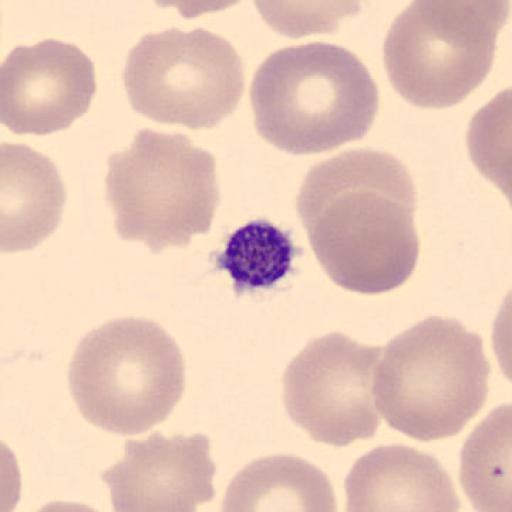Platelet: (211, 215, 302, 296)
RBC: (101, 125, 222, 256), (249, 38, 380, 157), (373, 314, 492, 444), (65, 315, 188, 440), (295, 146, 419, 256), (121, 26, 246, 132), (380, 0, 498, 110), (306, 191, 422, 296), (280, 332, 384, 448), (2, 37, 98, 138), (101, 430, 218, 512), (342, 440, 463, 512), (2, 140, 68, 254), (218, 451, 338, 512), (458, 402, 512, 512), (466, 84, 512, 204), (250, 0, 366, 41), (410, 0, 510, 41), (405, 0, 512, 24), (490, 286, 512, 387), (153, 0, 255, 20), (0, 438, 23, 512), (16, 496, 118, 512)
